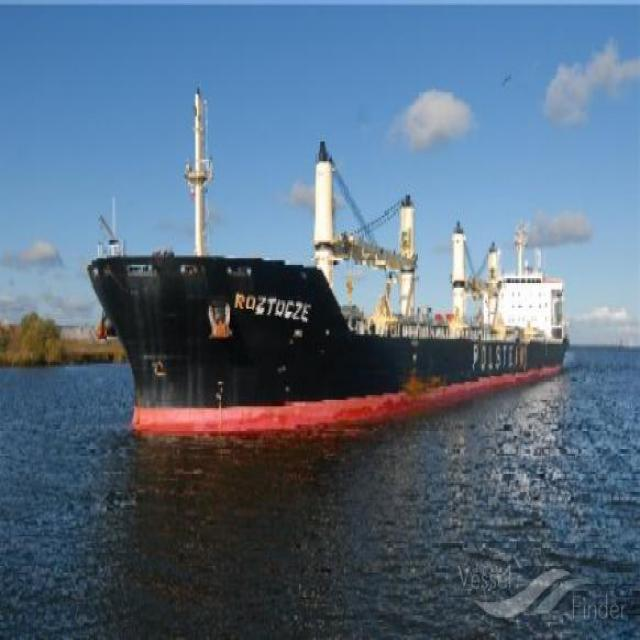OCR: (232, 287, 318, 323), (463, 334, 530, 377)
